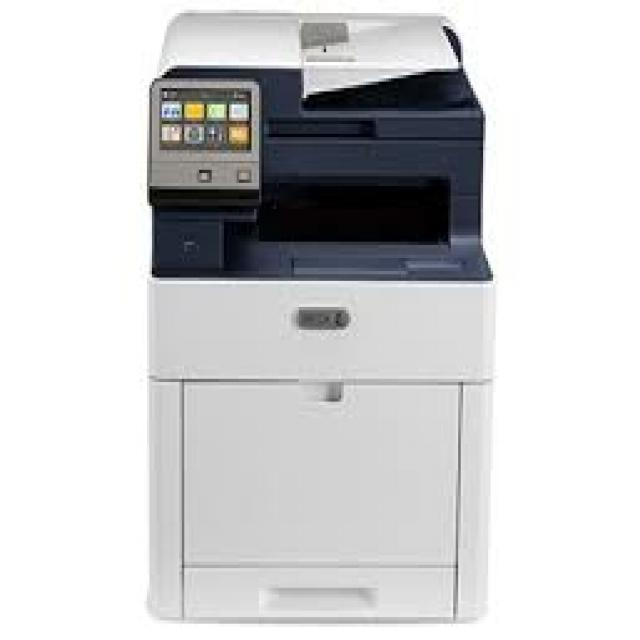printer: (111, 0, 528, 640)
